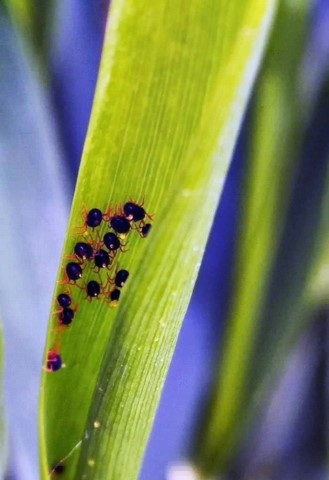Wheat Red Spider: (63, 199, 143, 285)
